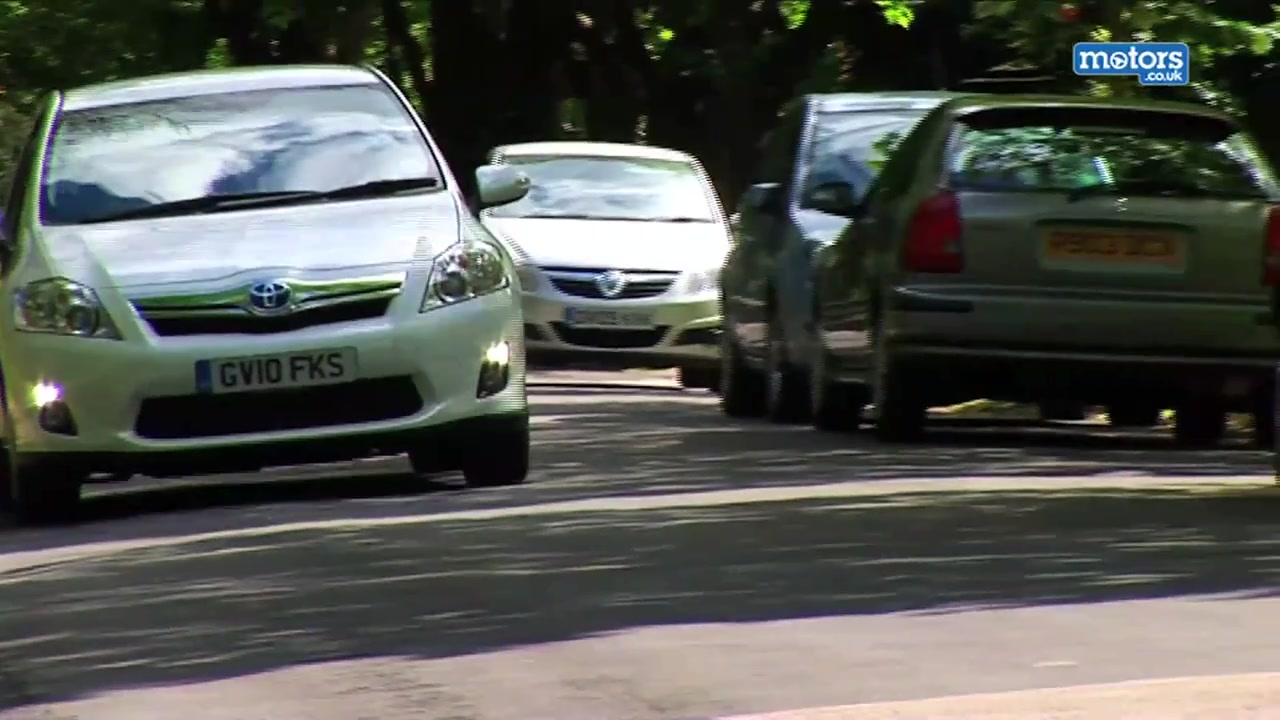car: (3, 65, 536, 510), (811, 99, 1280, 441), (713, 89, 959, 438), (473, 134, 737, 391)
